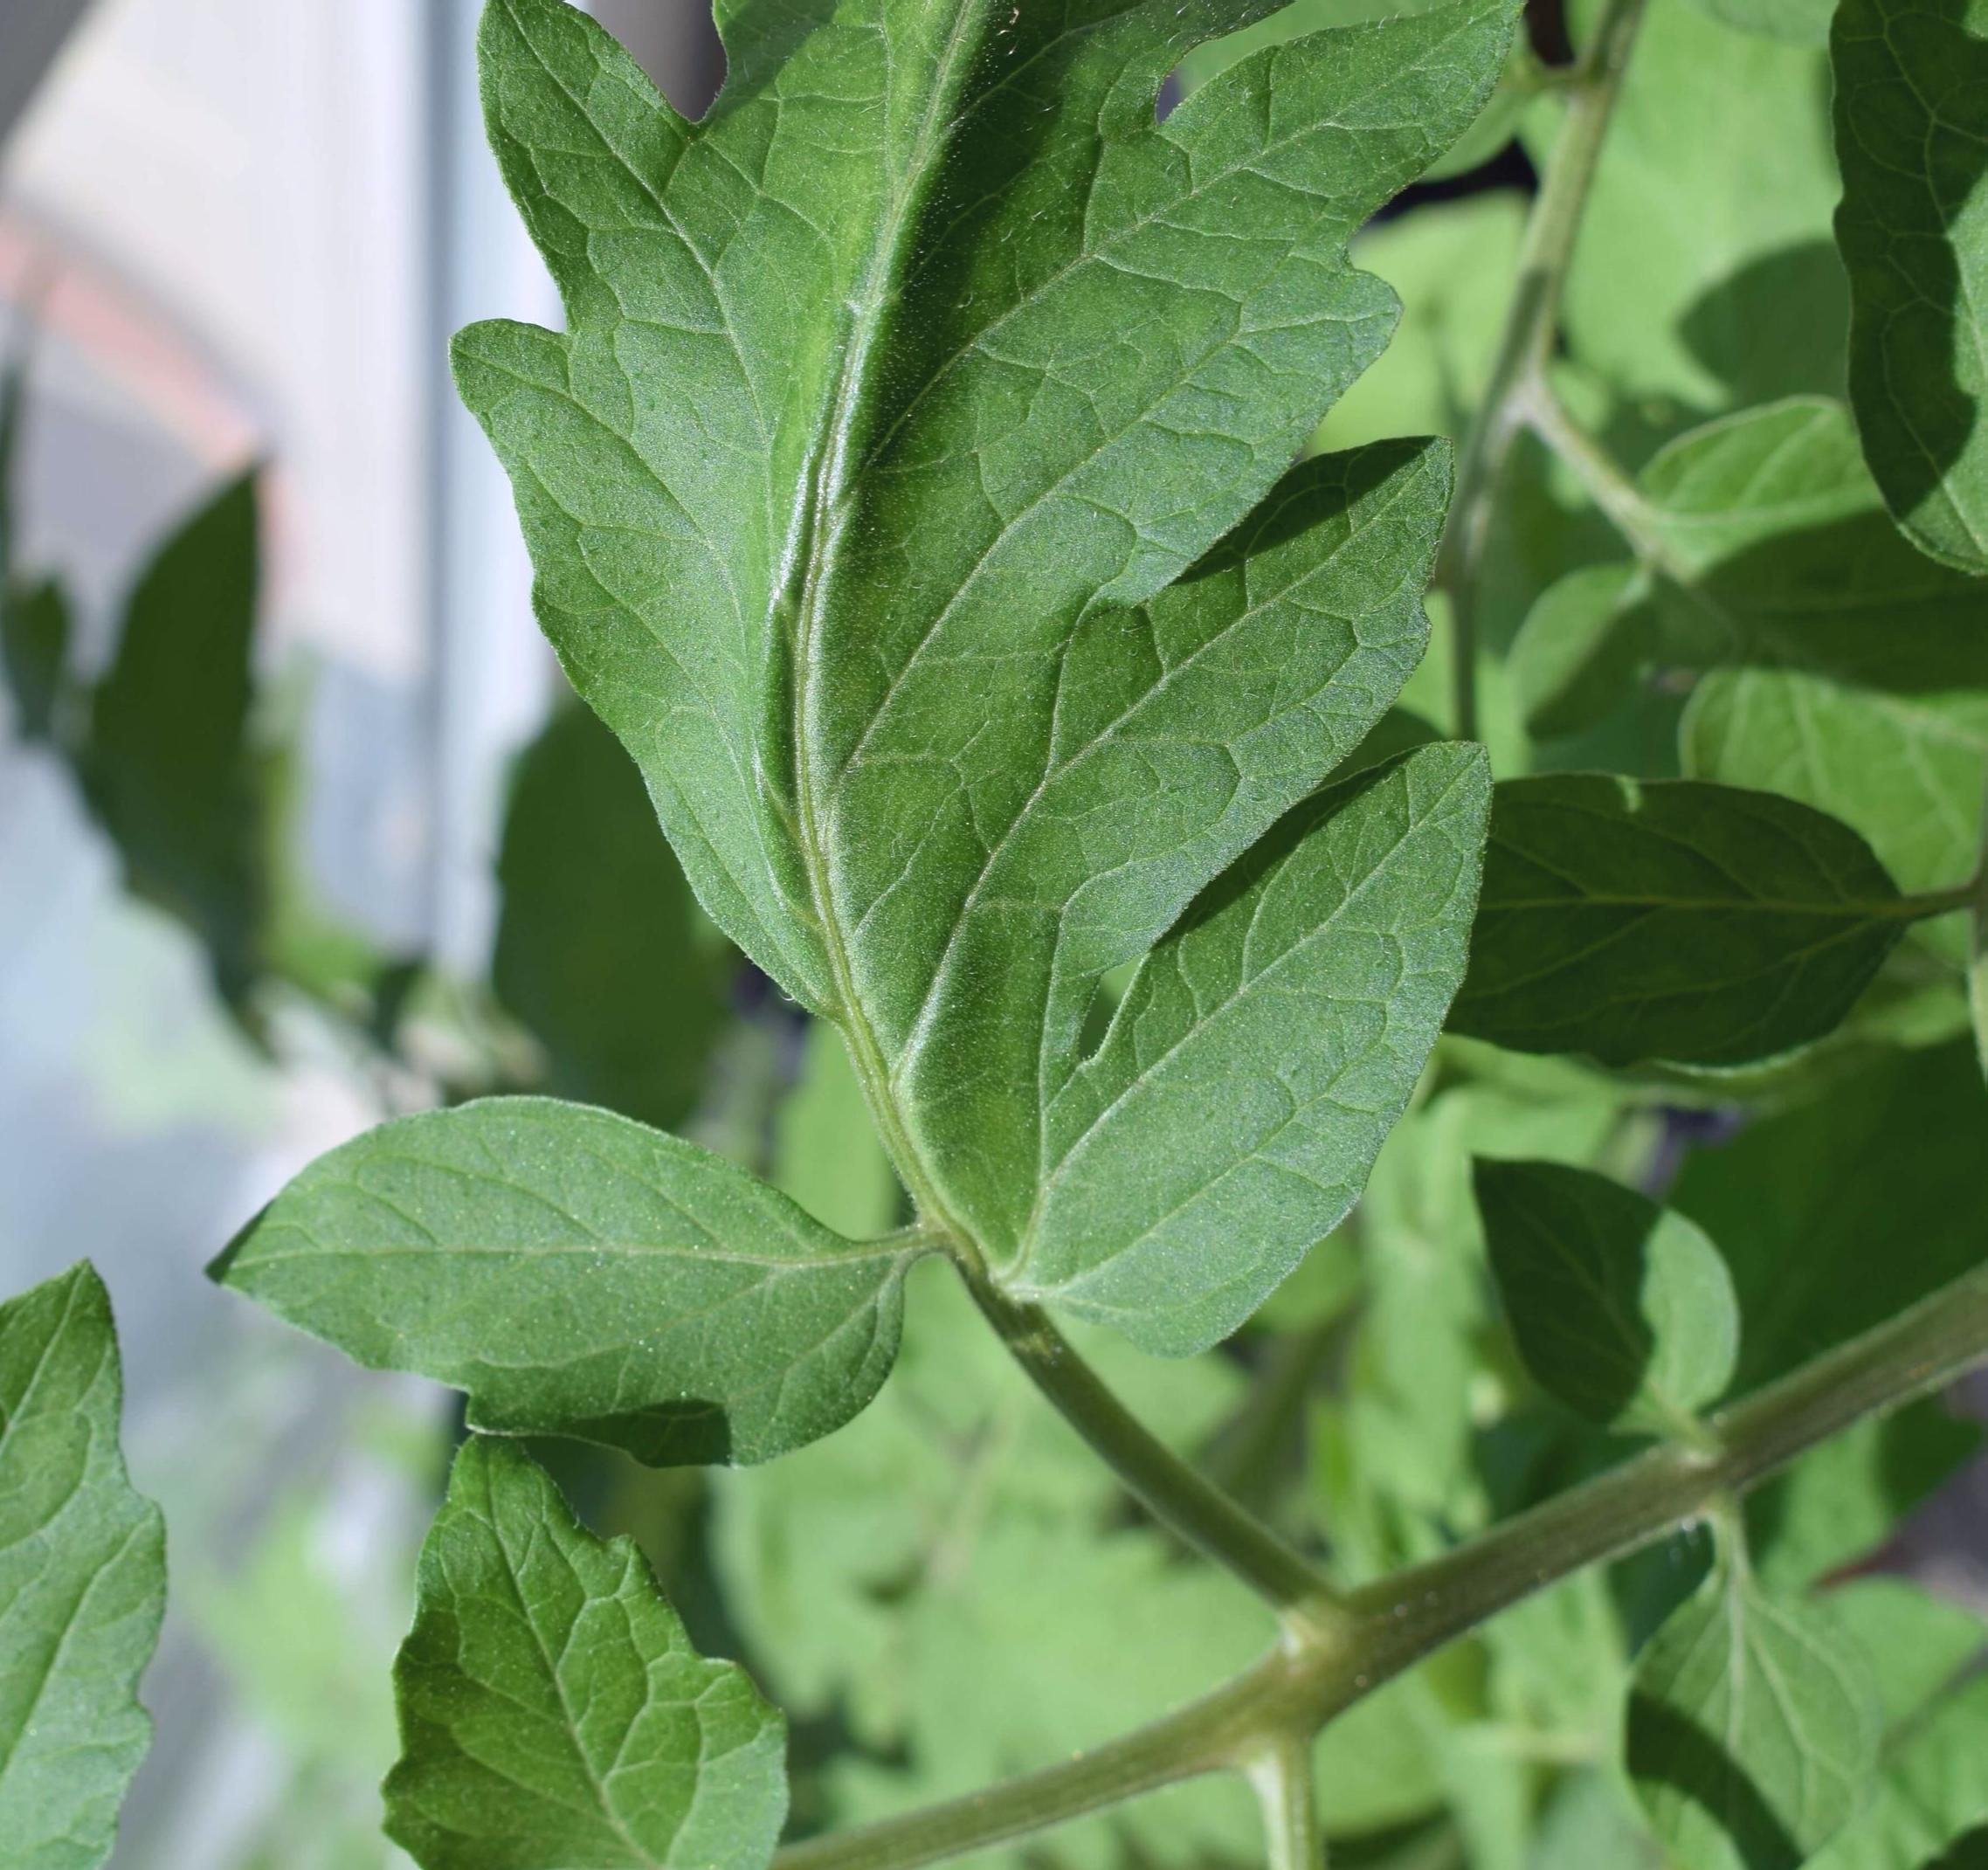Tomato leaf: (529, 0, 1654, 1418), (248, 1049, 970, 1482), (369, 1388, 896, 1870), (0, 1142, 223, 1870)
